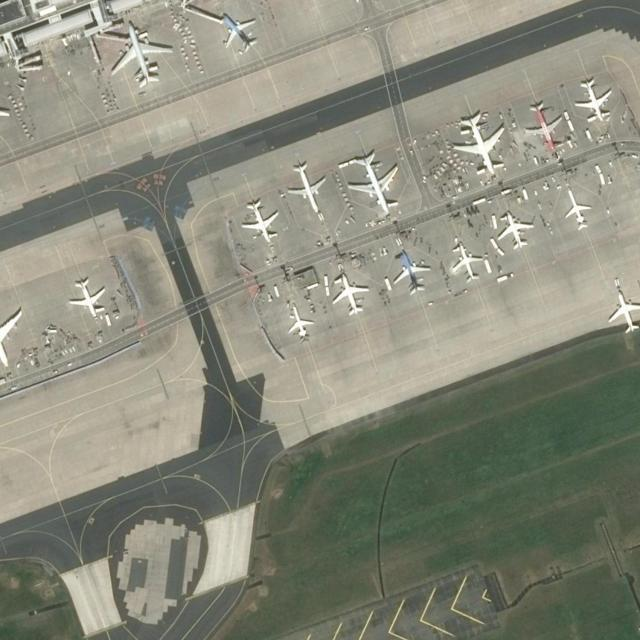Aircraft: (110, 22, 170, 87), (452, 114, 506, 176), (349, 152, 398, 216), (284, 163, 330, 213), (523, 100, 562, 151), (574, 76, 614, 122), (394, 249, 430, 297), (332, 273, 369, 317), (241, 201, 281, 241), (67, 276, 105, 318), (0, 295, 22, 366), (494, 212, 532, 252), (449, 240, 485, 282), (605, 288, 639, 332), (222, 13, 258, 53), (561, 188, 591, 228), (288, 305, 316, 341)
